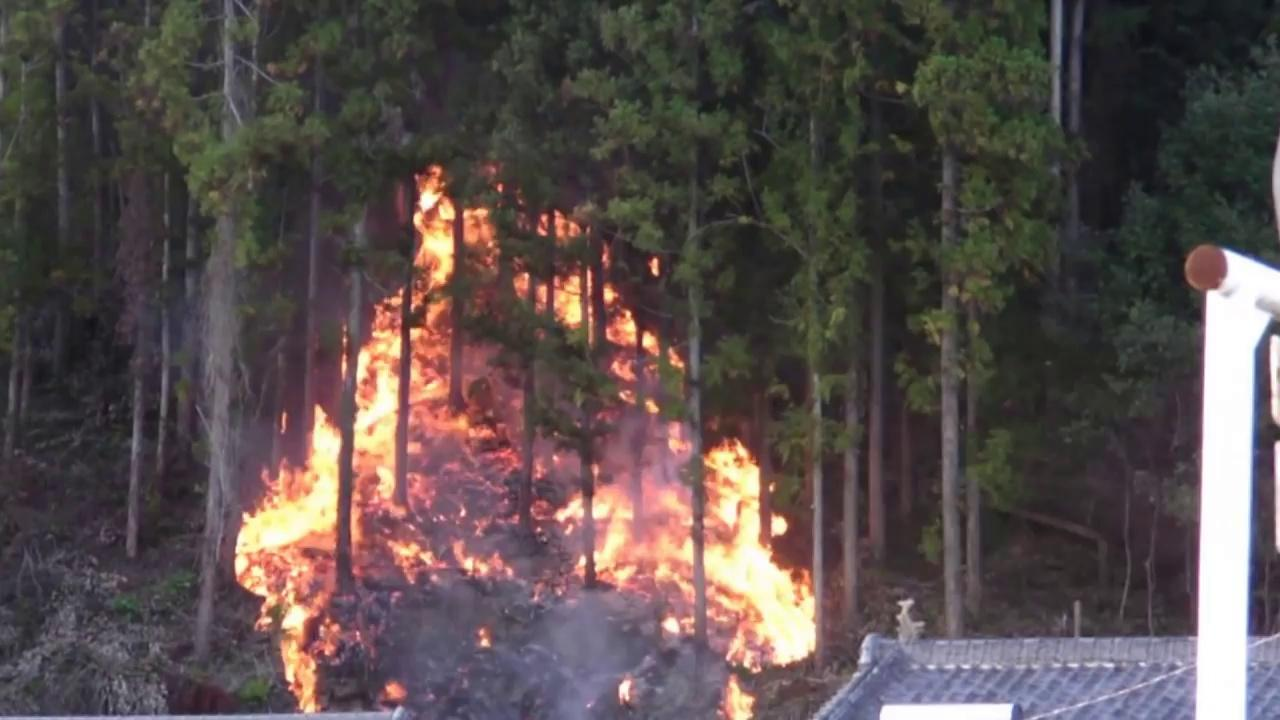fire: (246, 414, 348, 682), (714, 448, 822, 658), (592, 468, 698, 604), (362, 284, 402, 530), (414, 164, 452, 292)
